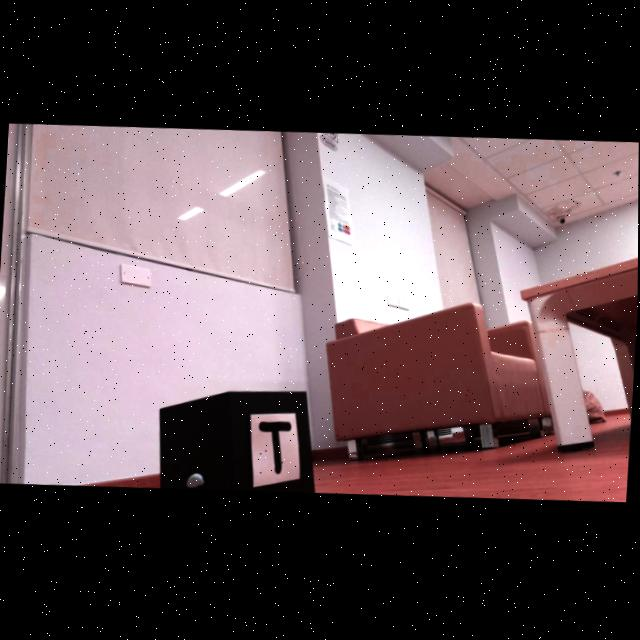T: (260, 423, 292, 475)
